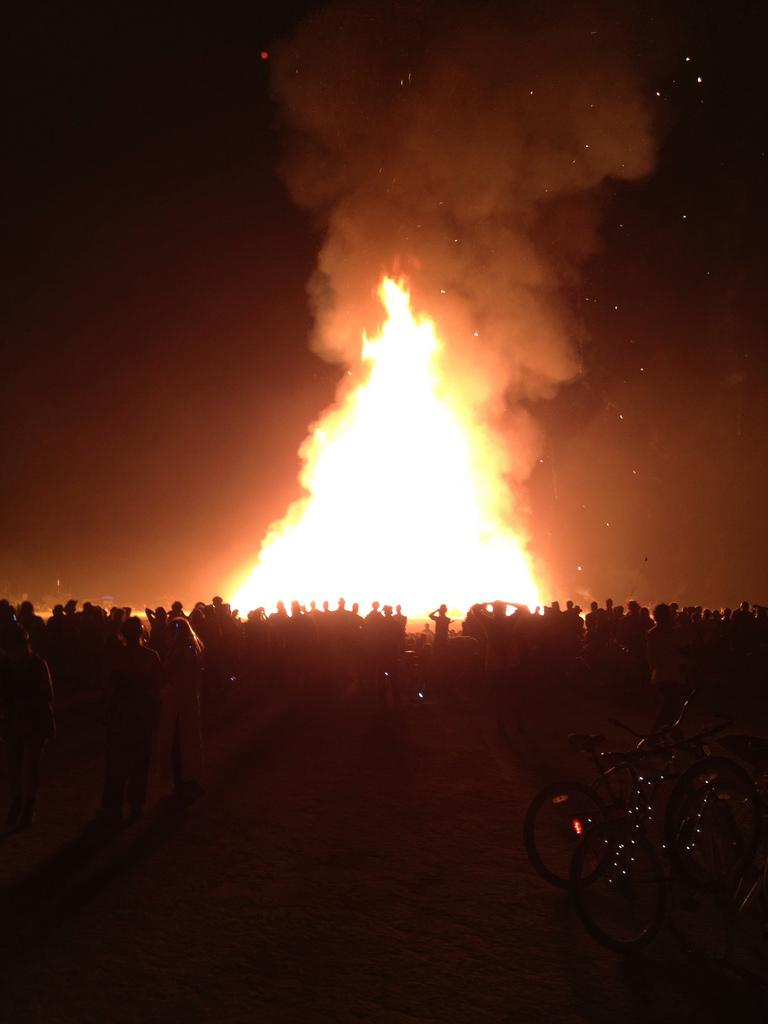fire: (310, 365, 515, 635)
